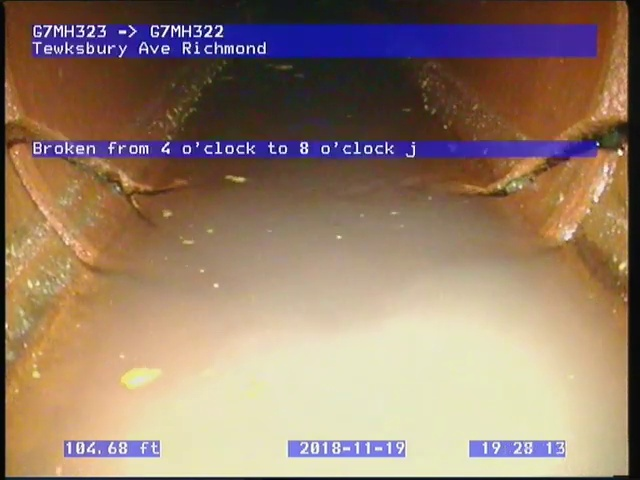crack: (5, 111, 191, 231), (453, 117, 627, 200)
